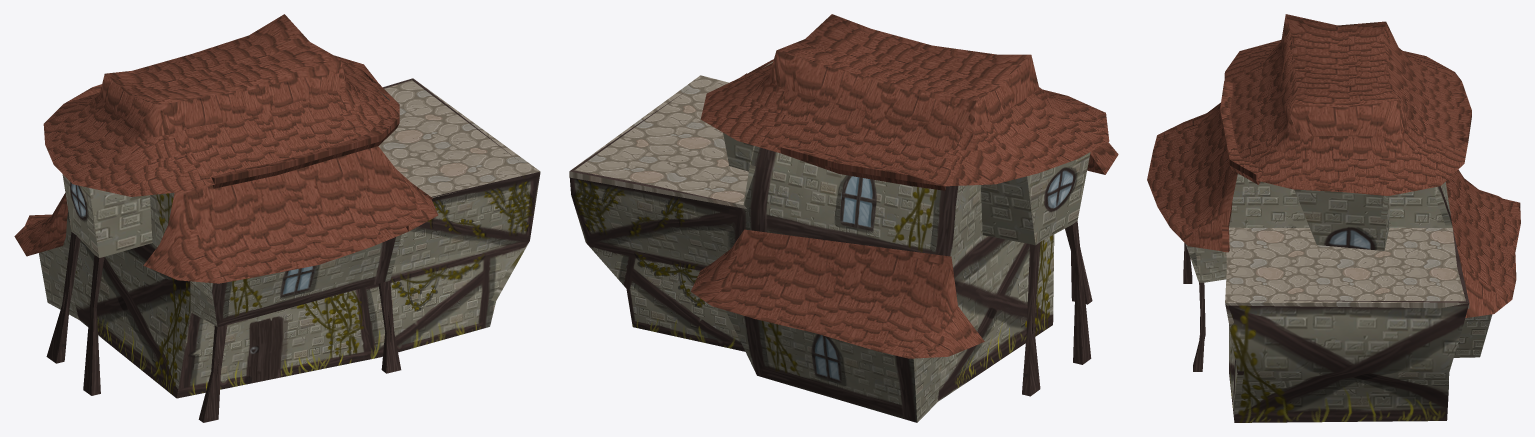
Rendered from House1pieces_breakableV2.fbx.
3 views of the same model, side by side, from view 1: azimuth 30°, elevation 25°; view 2: azimuth 150°, elevation 25°; view 3: azimuth 270°, elevation 25° (orthographic). The views are drawn at different scales.
Parts seen in each view (by area): view 1: shard6, shard1, shard8, shard7, shard3, shard5, shard4, shard9, shard10, shard2; view 2: shard6, shard2, shard5, shard10, shard3, shard8, shard7, shard4, shard9, shard1; view 3: shard2, shard8, shard5, shard7, shard1, shard6, shard3, shard10.
Part boxes in pixels (x1,y1,x2,y2): shard6: [14, 193, 529, 422]; shard1: [143, 117, 438, 302]; shard8: [346, 76, 540, 281]; shard7: [155, 42, 399, 188]; shard3: [43, 71, 214, 227]; shard5: [65, 14, 378, 103]; shard4: [46, 198, 152, 363]; shard9: [83, 305, 100, 395]; shard10: [44, 84, 101, 123]; shard2: [383, 78, 538, 300]; shard6: [725, 227, 1092, 422]; shard2: [570, 90, 795, 351]; shard5: [700, 39, 976, 190]; shard10: [780, 144, 995, 256]; shard3: [950, 54, 1109, 216]; shard8: [569, 59, 773, 208]; shard7: [805, 14, 998, 82]; shard4: [981, 188, 1083, 396]; shard9: [1073, 273, 1091, 364]; shard1: [1087, 142, 1118, 174]; shard2: [1225, 184, 1516, 422]; shard8: [1185, 151, 1469, 327]; shard5: [1339, 22, 1467, 218]; shard7: [1230, 32, 1348, 184]; shard1: [1147, 80, 1294, 255]; shard6: [1183, 169, 1520, 419]; shard3: [1224, 14, 1424, 83]; shard10: [1406, 53, 1471, 202].
Bounding box in the file's own units: 7.61 × 4.71 × 5.93.
